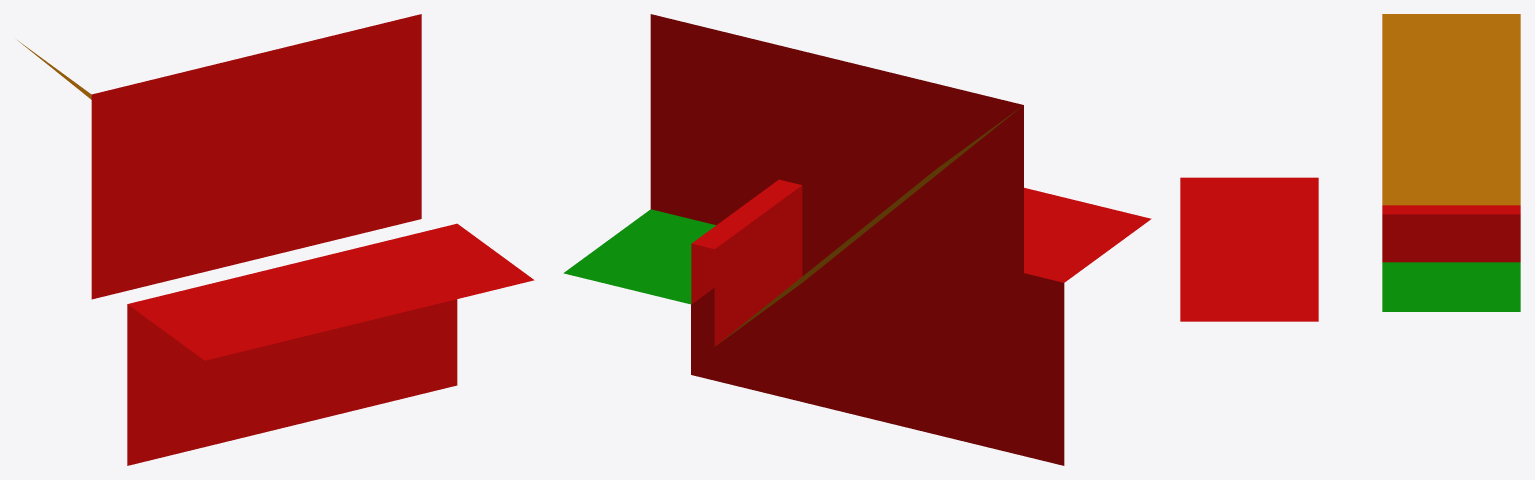
The picture shows the model from 3 angles, left to right: view 1: azimuth 30°, elevation 25°; view 2: azimuth 150°, elevation 25°; view 3: azimuth 270°, elevation 25°; orthographic projection. The views are drawn at different scales.
Parts seen in each view (by area): view 1: None_W_E_E_A_S_E_E_A_None; view 2: None_W_E_E_A_S_E_E_A_None; view 3: None_W_E_E_A_S_E_E_A_None.
Part boxes in pixels (x1,y1,x2,y2): None_W_E_E_A_S_E_E_A_None: (17, 14, 534, 465); None_W_E_E_A_S_E_E_A_None: (563, 14, 1151, 465); None_W_E_E_A_S_E_E_A_None: (1180, 14, 1520, 321).
Size of the model in its own units: 100 by 100 by 100.
